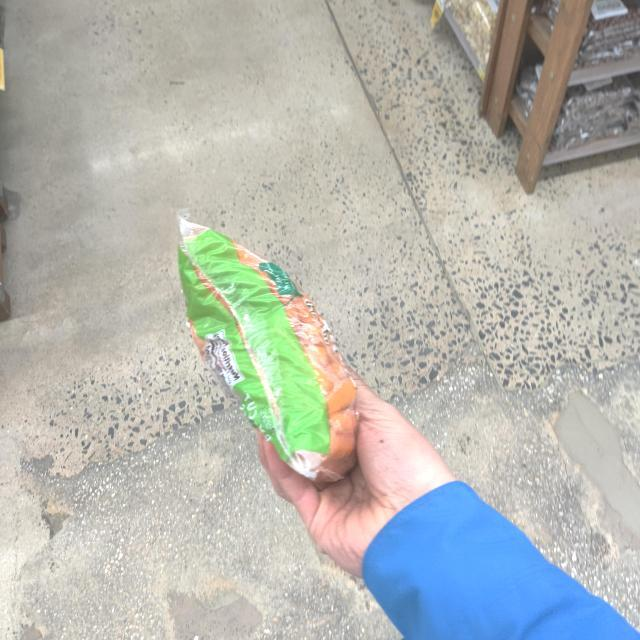carrot: (161, 205, 363, 476)
